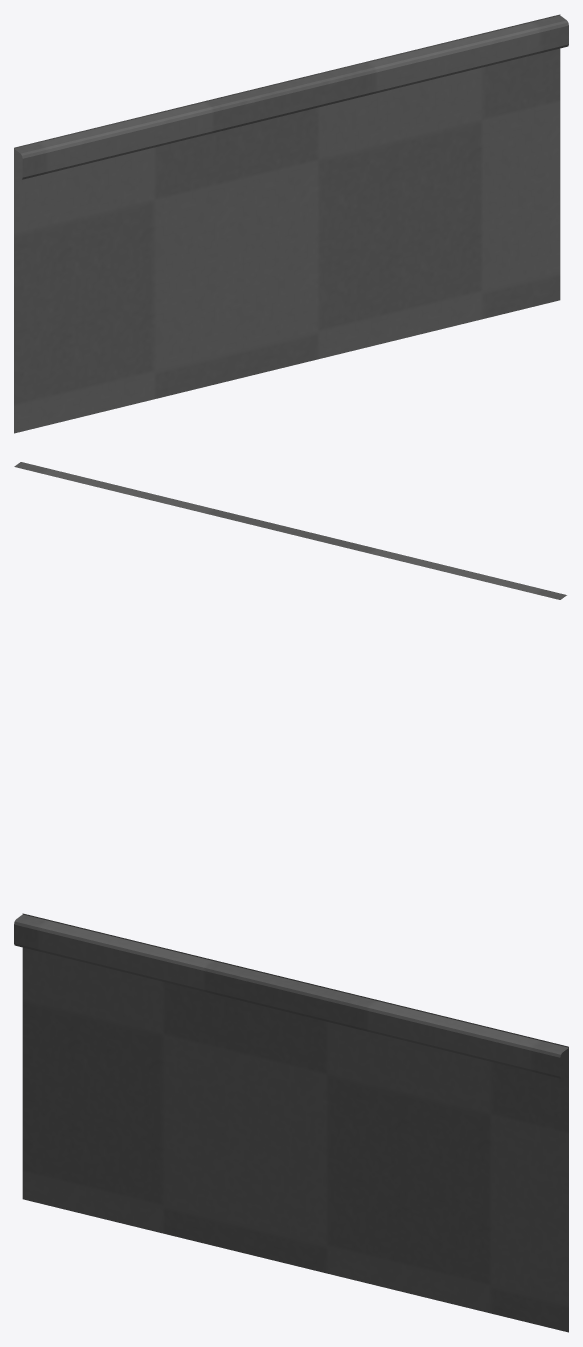
The model's file is SM_House_Base_100CM2.glb.
3 renders of one model, top to bottom at view 1: azimuth 30°, elevation 25°; view 2: azimuth 150°, elevation 25°; view 3: azimuth 330°, elevation 25°, orthographic.
Parts seen in each view (by area): view 1: SM_House_Base_100CM2; view 2: SM_House_Base_100CM2; view 3: SM_House_Base_100CM2.
Part boxes in pixels (x1,y1,x2,y2): SM_House_Base_100CM2: [14, 14, 568, 433]; SM_House_Base_100CM2: [14, 462, 566, 599]; SM_House_Base_100CM2: [14, 913, 568, 1332].
Bounding box in the file's own units: 100 × 50 × 2.74.
1 material, 1 textured.
